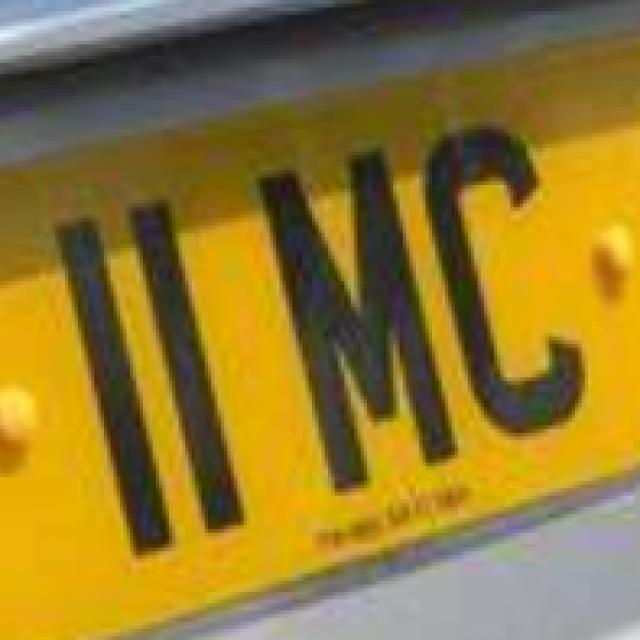C: (402, 99, 608, 454)
I: (44, 190, 191, 573), (111, 179, 259, 551)
M: (244, 126, 471, 506)
